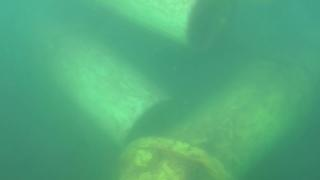pipe: (1, 1, 180, 149), (155, 58, 320, 179), (97, 1, 236, 51), (116, 136, 233, 180)
